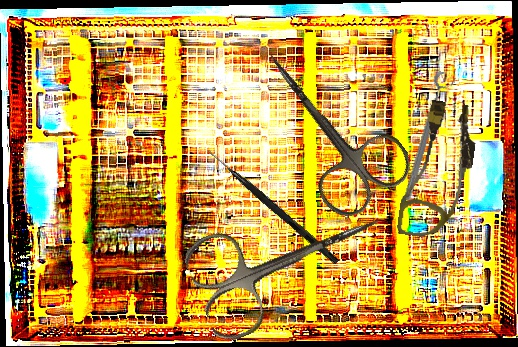Cannula: (396, 97, 481, 243)
Fixation Ring: (399, 70, 458, 204)
Hook Surgical: (204, 148, 341, 265)
Iris Scissors: (178, 173, 400, 347), (233, 24, 420, 227)
